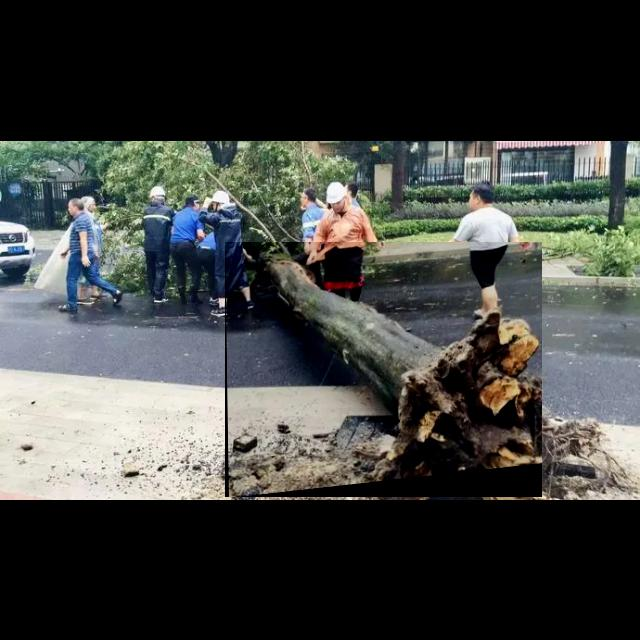Fallen Tree: (225, 242, 543, 498)
